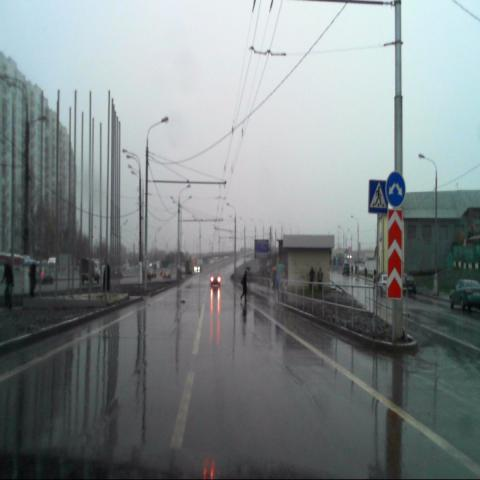4_2_3: (386, 172, 405, 207)
